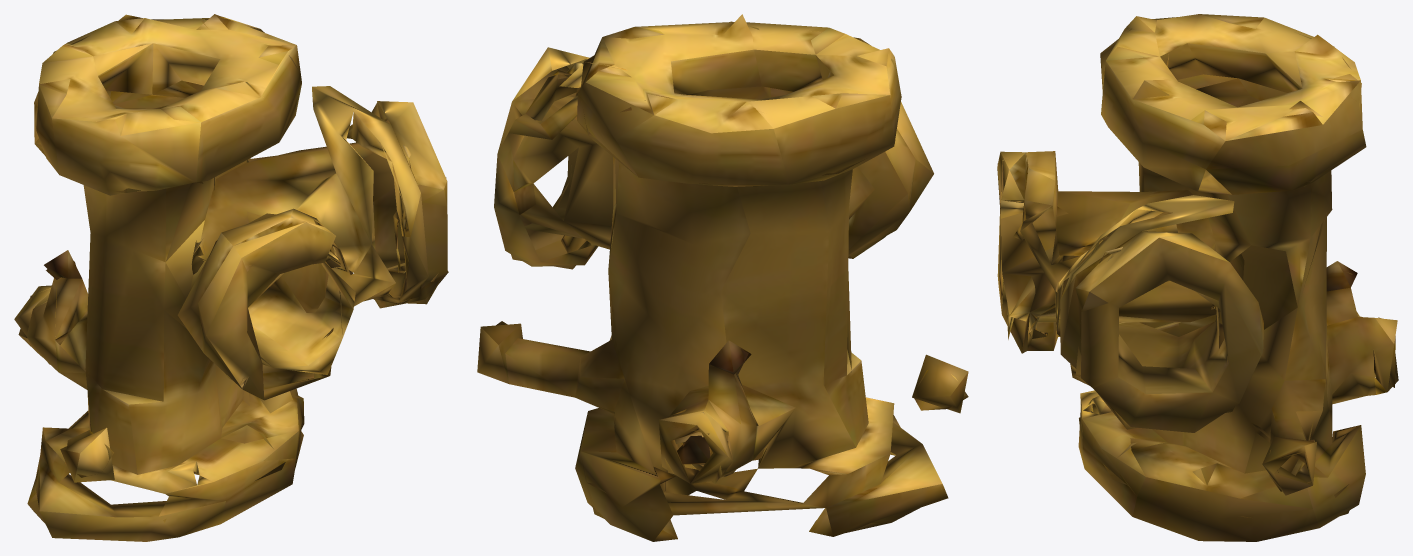
File: lg-steam-pipe-elbow.glb
3 renders of one model, left to right at view 1: azimuth 30°, elevation 25°; view 2: azimuth 150°, elevation 25°; view 3: azimuth 270°, elevation 25°, orthographic. The views are drawn at different scales.
Parts seen in each view (by area): view 1: geometry_0; view 2: geometry_0; view 3: geometry_0.
Part boxes in pixels (box(x1,y1,x2,y2)): geometry_0: box(14, 14, 448, 541); geometry_0: box(477, 14, 968, 541); geometry_0: box(997, 14, 1398, 541).
Bounding box in the file's own units: 0.9557 × 1 × 0.8592.
Materials: 1 (1 with a texture image).
